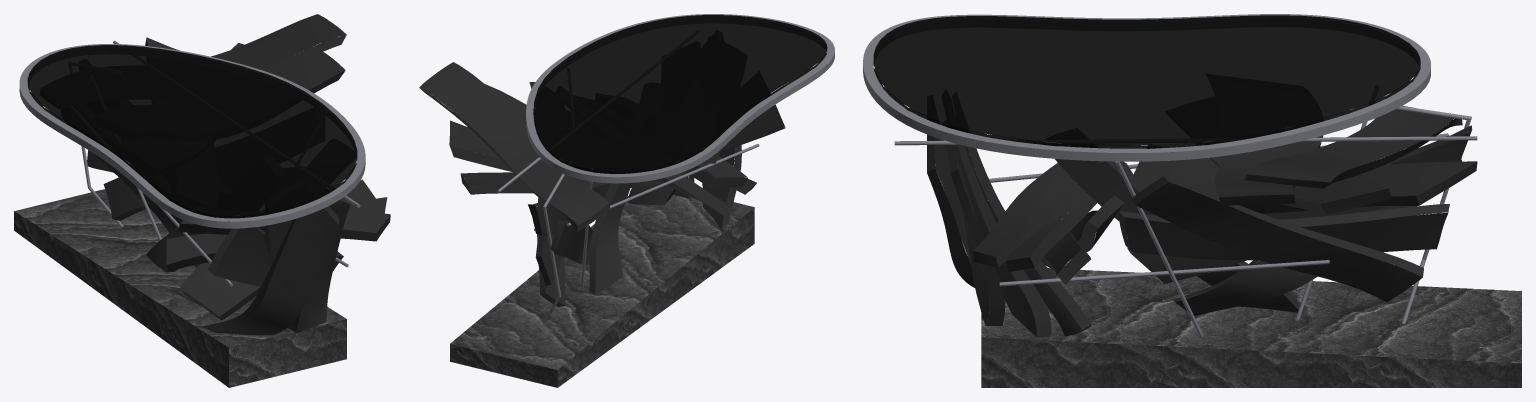
The model's file is BROWNSHARKTABLE-DARK-v79.glb.
3 views of the same model, side by side, from view 1: azimuth 30°, elevation 25°; view 2: azimuth 150°, elevation 25°; view 3: azimuth 270°, elevation 25° (orthographic). The views are drawn at different scales.
Parts seen in each view (by area): view 1: BROWNSHARKTABLE-DARK; view 2: BROWNSHARKTABLE-DARK; view 3: BROWNSHARKTABLE-DARK.
Part boxes in pixels (<box>): BROWNSHARKTABLE-DARK: <box>14,14,390,387</box>; BROWNSHARKTABLE-DARK: <box>419,14,834,387</box>; BROWNSHARKTABLE-DARK: <box>863,14,1521,387</box>.
Bounding box in the file's own units: 1.88 × 1.34 × 2.86.
4 materials, 1 textured.
